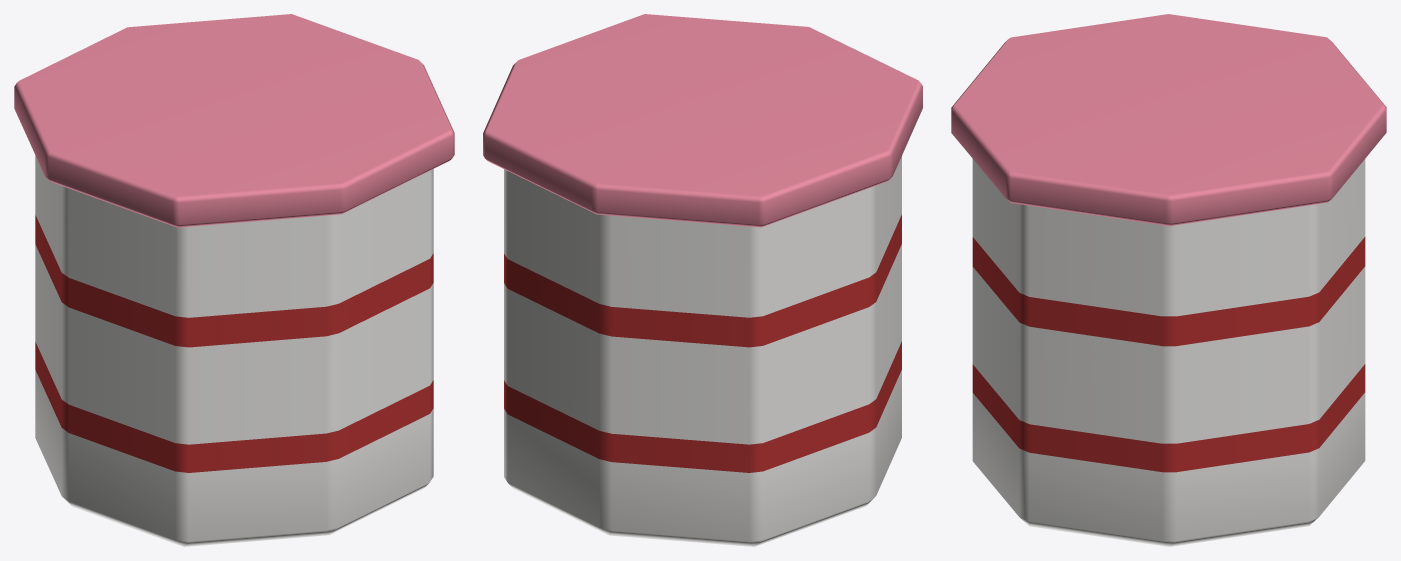
File: Jar_2.glb
3 views of the same model, side by side, from view 1: azimuth 30°, elevation 25°; view 2: azimuth 150°, elevation 25°; view 3: azimuth 270°, elevation 25° (orthographic).
Visible parts, largest first — view 1: Jar_2; view 2: Jar_2; view 3: Jar_2.
Part boxes in pixels (x1,y1,x2,y2): Jar_2: (14, 14, 454, 546); Jar_2: (483, 14, 922, 546); Jar_2: (951, 14, 1386, 546).
Bounding box in the file's own units: 0.2207 × 0.2028 × 0.2207.
Materials: 1 (1 with a texture image).
